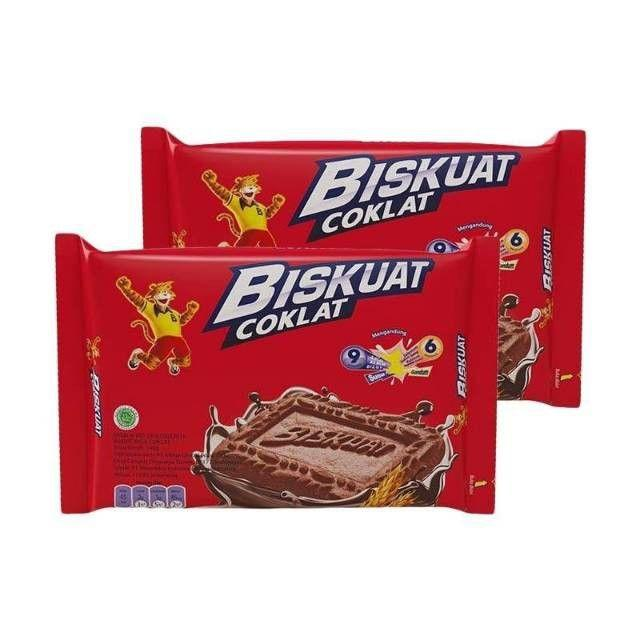KemasanPlastik: (48, 113, 586, 520)
